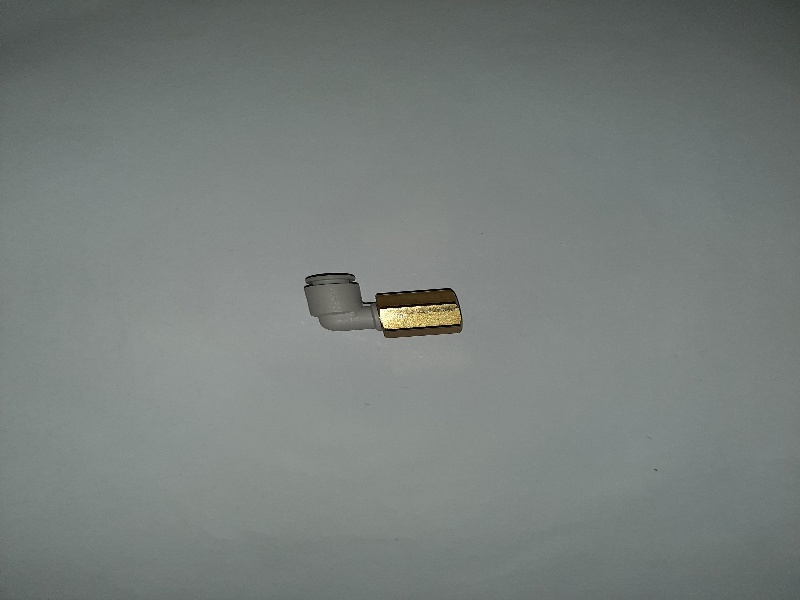Connector: (300, 273, 465, 341)
